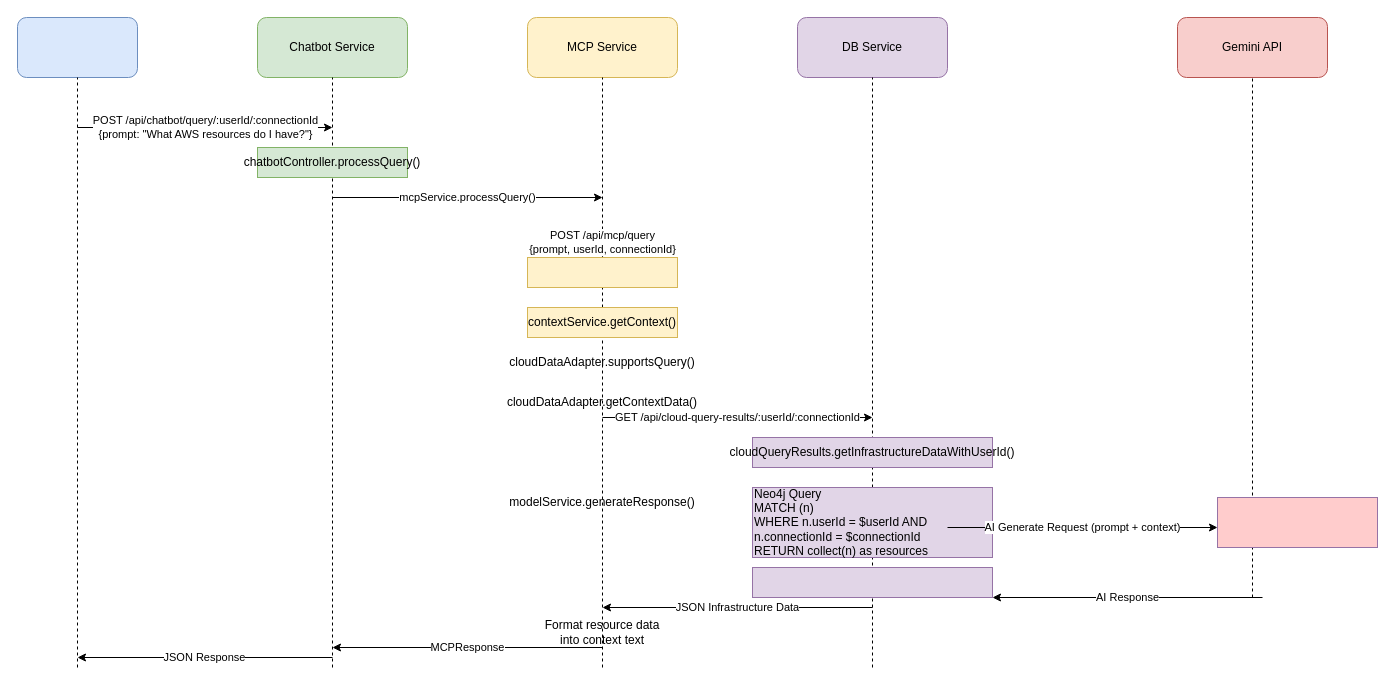
Image size: 1395x686. Some labels were removed from this diagram. Each missing label, with the box of its shape:
Client: (16, 16, 138, 78)
mcpController.processQuery(): (526, 256, 678, 288)
Proccess everything together: (1216, 496, 1378, 548)
Process resources into CloudInfrastructure: (752, 566, 992, 598)
